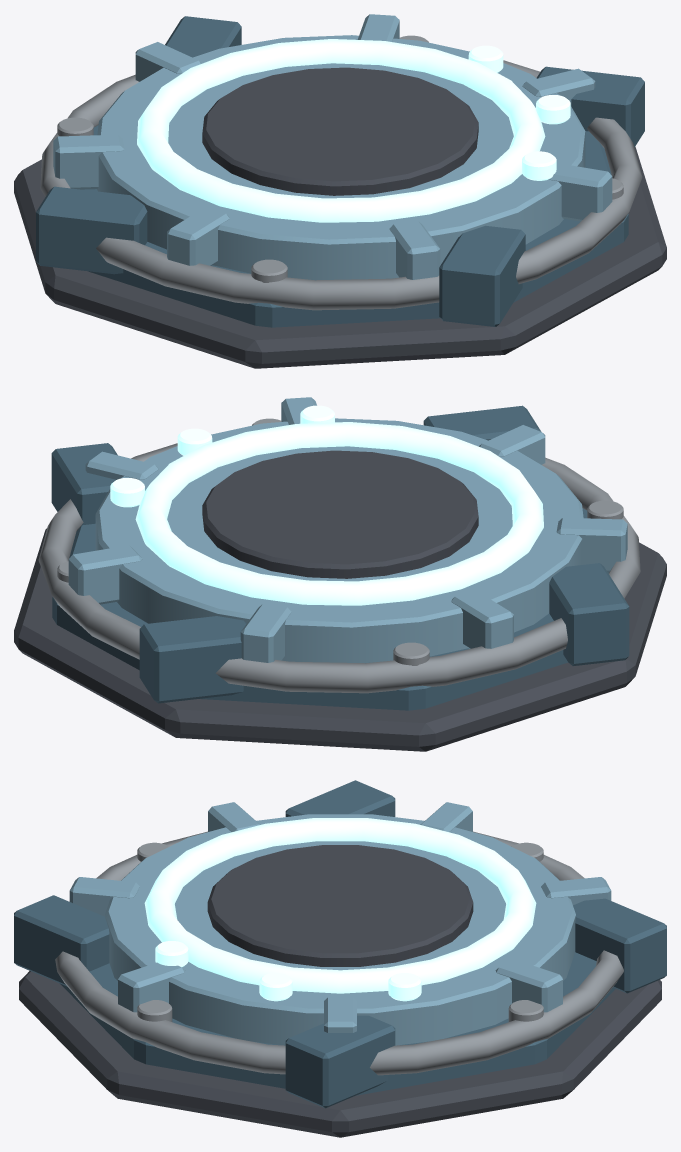
Rendered from frost_base_l3.glb.
3 renders of one model, top to bottom at view 1: azimuth 30°, elevation 25°; view 2: azimuth 150°, elevation 25°; view 3: azimuth 270°, elevation 25°, orthographic. The views are drawn at different scales.
Parts seen in each view (by area): view 1: Cylinder.002, Cylinder, Cylinder.003, Torus.001, Torus, Cylinder.001, Cube.009, Cube.010, Cube.007, Cube.003, Cube.006, Cube.004 (+10 smaller); view 2: Cylinder.002, Cylinder, Cylinder.003, Torus.001, Torus, Cylinder.001, Cube.008, Cube.009, Cube.007, Cube.001, Cube.003, Cube.004 (+10 smaller); view 3: Cylinder.002, Cylinder, Cylinder.003, Torus.001, Torus, Cylinder.001, Cube.007, Cube.010, Cube.008, Cube.009, Cube.001, Cube.006 (+10 smaller).
Part boxes in pixels (x1,y1,x2,y2): Cylinder.002: (97,35,585,279); Cylinder: (14,146,666,368); Cylinder.003: (202,67,478,195); Torus.001: (137,39,545,222); Torus: (40,60,642,310); Cylinder.001: (83,125,628,327); Cube.009: (36,186,147,274); Cube.010: (439,225,525,326); Cube.007: (536,66,644,147); Cube.003: (53,134,124,189); Cube.006: (548,163,612,221); Cube.004: (167,207,229,265); Cylinder.002: (95,418,583,662); Cylinder: (14,528,666,751); Cylinder.003: (202,450,478,578); Torus.001: (135,422,543,605); Torus: (38,443,640,693); Cylinder.001: (52,508,608,710); Cube.008: (139,616,246,703); Cube.009: (549,563,629,665); Cube.007: (51,443,117,525); Cube.001: (68,545,142,604); Cube.003: (451,590,513,648); Cube.004: (556,517,627,572); Cylinder.002: (105,814,575,1045); Cylinder: (19,971,661,1137); Cylinder.003: (207,845,473,966); Torus.001: (144,818,536,993); Torus: (55,831,623,1075); Cylinder.001: (60,952,615,1095); Cube.007: (285,1015,395,1108); Cube.010: (14,895,109,986); Cube.008: (573,898,666,993); Cube.009: (285,780,395,816); Cube.001: (495,959,562,1012); Cube.006: (118,962,185,1012).
Bounding box in the file's own units: 2.16 × 0.4 × 2.16.
